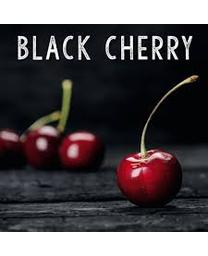cherry: (115, 148, 183, 209), (59, 132, 103, 168), (26, 127, 62, 164)
